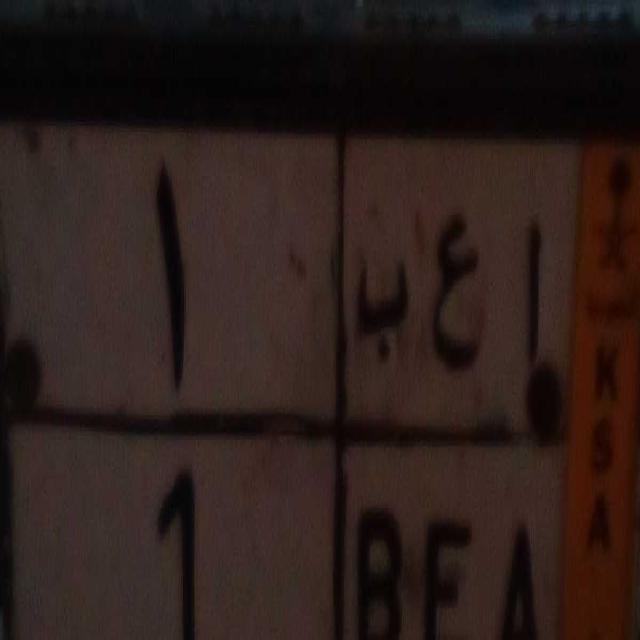license_plate: (57, 417, 560, 640)
